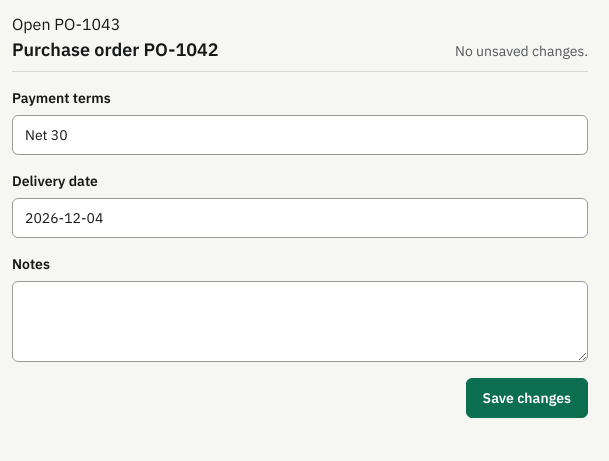
Test case: EditConflictForm › counts real changes only; undoing an edit makes the form clean again
Step 1. Replace the text in the field labelled "Payment terms" with "Net 45" → {"x": 300, "y": 135}, box x1=12 y1=115 x2=588 y2=155
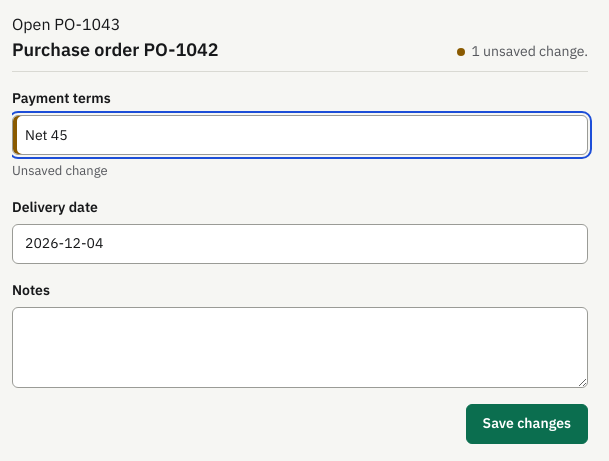
Check: the message reads "1 unsaved change.", box x1=471 y1=42 x2=588 y2=60
Step 2. Replace the text in the field labelled "Payment terms" with "Net 30" → {"x": 300, "y": 135}, box x1=12 y1=115 x2=588 y2=155
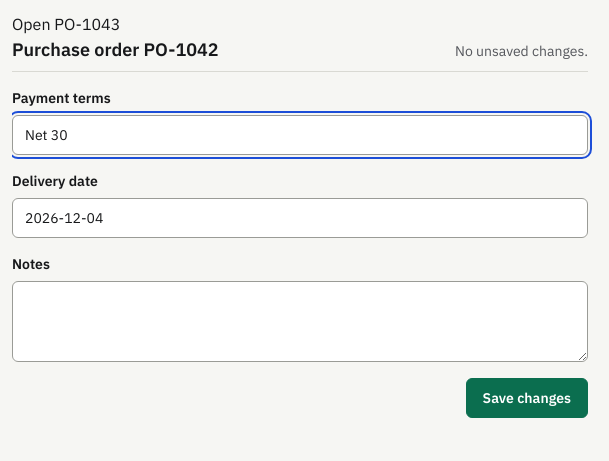
Check: the message reads "No unsaved changes.", box x1=455 y1=42 x2=588 y2=60
